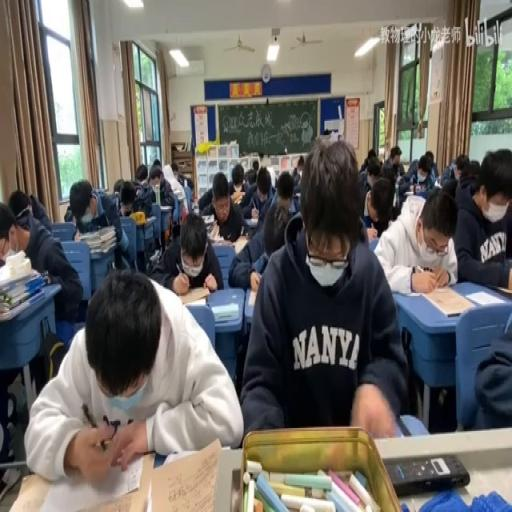calculator: (8, 448, 152, 509), (146, 436, 222, 510), (0, 266, 46, 320), (418, 283, 472, 314), (464, 288, 503, 306), (178, 286, 210, 306), (210, 300, 238, 320), (210, 234, 233, 248), (232, 234, 248, 254), (247, 287, 258, 306), (209, 222, 219, 240), (149, 246, 159, 263), (231, 193, 243, 205), (143, 216, 156, 225), (202, 213, 214, 222), (248, 216, 258, 225), (404, 186, 414, 194), (192, 200, 198, 212), (434, 176, 441, 186), (160, 205, 171, 210), (183, 178, 187, 186)
paper: (242, 136, 404, 442), (26, 267, 240, 481), (373, 185, 459, 294), (453, 147, 512, 291), (63, 179, 128, 279), (469, 292, 511, 430), (197, 170, 245, 244), (138, 161, 177, 220), (6, 190, 51, 240), (243, 164, 275, 226), (406, 151, 438, 196), (358, 154, 382, 210), (383, 145, 405, 174), (276, 171, 294, 206), (170, 160, 189, 188), (342, 139, 360, 168), (438, 176, 458, 199), (172, 198, 186, 229), (92, 186, 106, 216), (230, 162, 244, 188), (134, 163, 148, 185), (454, 152, 468, 172), (258, 152, 272, 171), (112, 178, 125, 198), (120, 193, 133, 212), (398, 171, 414, 186), (290, 193, 300, 212), (251, 156, 259, 174), (469, 158, 479, 171), (366, 149, 376, 162), (296, 155, 304, 171), (151, 158, 161, 168), (426, 151, 432, 166), (291, 165, 298, 176), (322, 128, 331, 134), (378, 158, 383, 166)
person: (383, 452, 469, 494)
